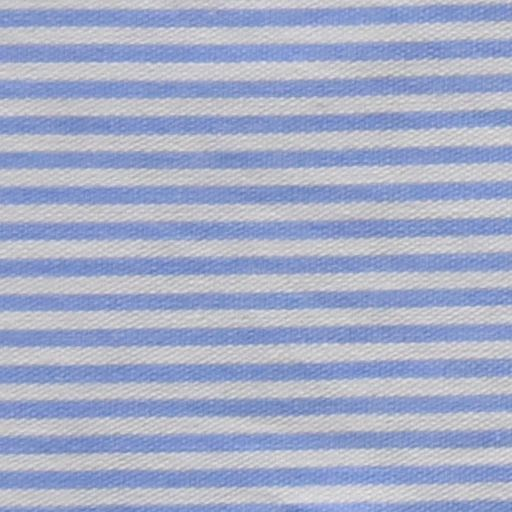defect: (272, 497, 309, 512)
